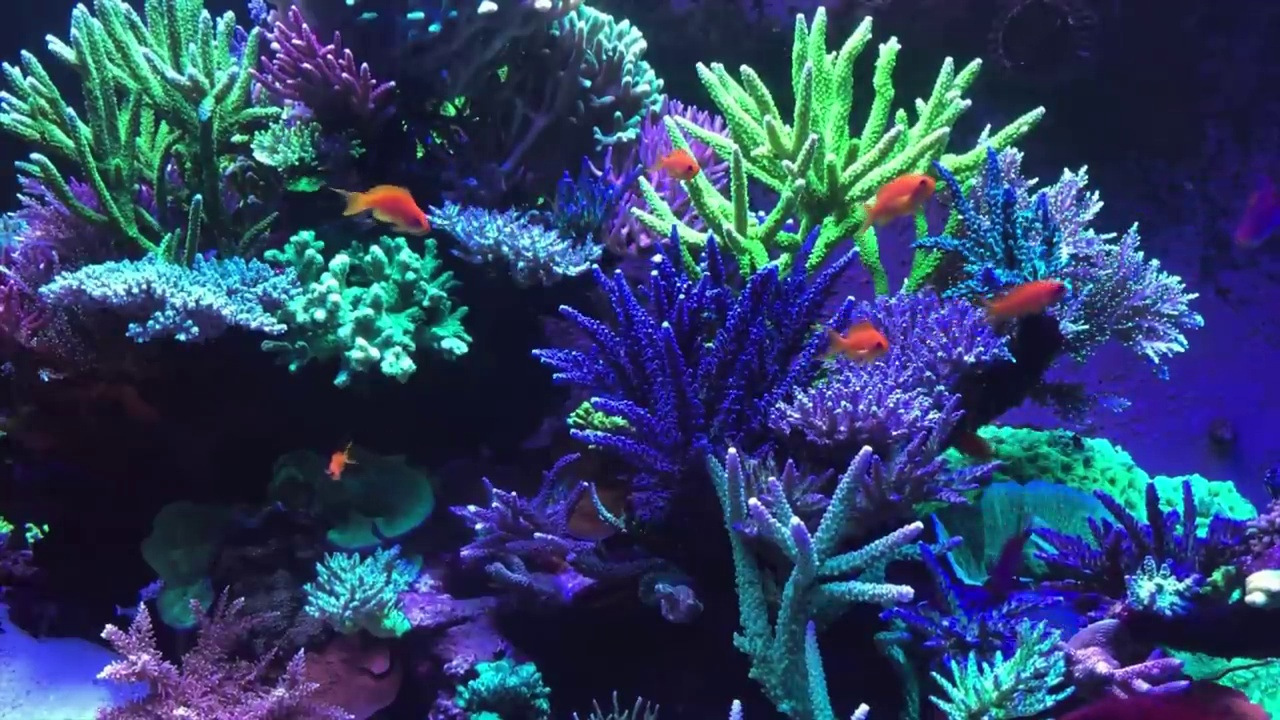fish: (329, 183, 432, 234), (861, 174, 933, 230), (978, 280, 1063, 320), (817, 322, 890, 362), (659, 149, 701, 179), (327, 440, 357, 480)
